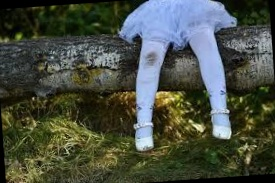earth: (146, 51, 157, 67)
